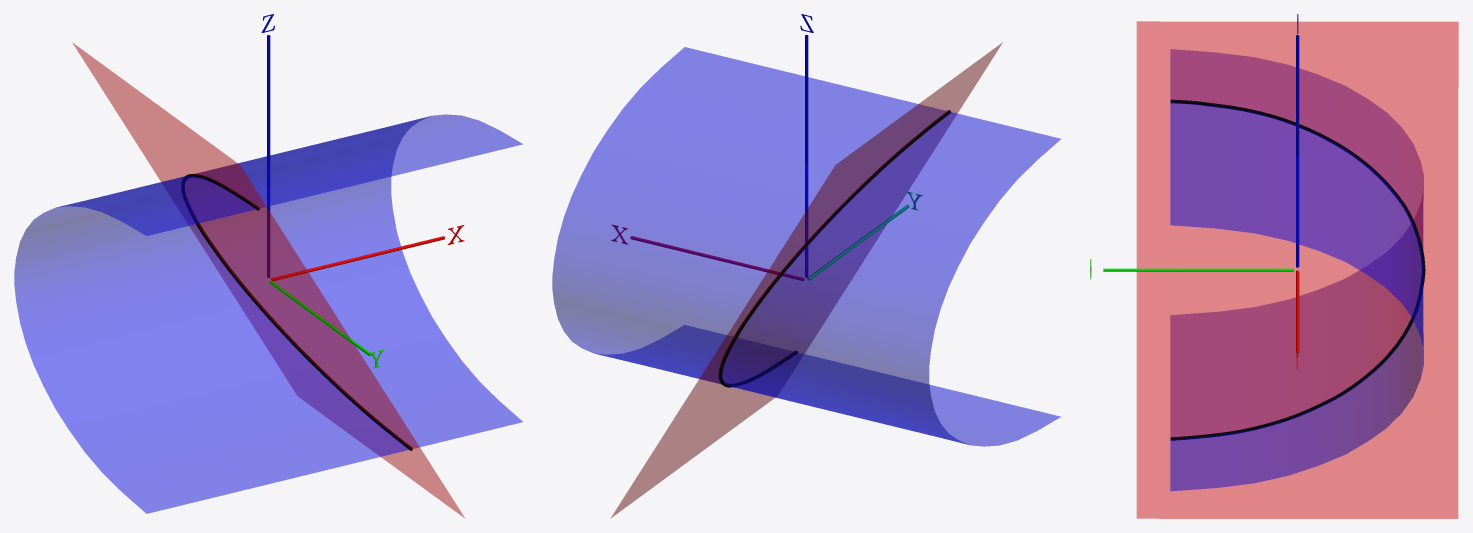
File: Parabola Plano 02 - 00.fbx
3 views of the same model, side by side, from view 1: azimuth 30°, elevation 25°; view 2: azimuth 150°, elevation 25°; view 3: azimuth 270°, elevation 25° (orthographic). The views are drawn at different scales.
Visible parts, largest first — view 1: parabola_01_, Plane_, inter, Eje_Z, Eje_X; view 2: parabola_01_, Plane_, inter, Eje_Z, Eje_X; view 3: Plane_, parabola_01_, inter, Eje_Z, Eje_Y.
Boxes of the visible parts, left/top/right/bottom form: parabola_01_: left=14, top=114, right=522, bottom=513; Plane_: left=73, top=43, right=464, bottom=517; inter: left=181, top=174, right=412, bottom=450; Eje_Z: left=267, top=35, right=270, bottom=277; Eje_X: left=271, top=236, right=444, bottom=280; parabola_01_: left=552, top=47, right=1060, bottom=446; Plane_: left=611, top=42, right=1002, bottom=517; inter: left=718, top=110, right=950, bottom=387; Eje_Z: left=805, top=35, right=808, bottom=277; Eje_X: left=630, top=236, right=803, bottom=280; Plane_: left=1136, top=21, right=1458, bottom=518; parabola_01_: left=1170, top=49, right=1423, bottom=491; inter: left=1170, top=99, right=1425, bottom=440; Eje_Z: left=1296, top=35, right=1299, bottom=267; Eje_Y: left=1103, top=268, right=1293, bottom=271.
Size of the model in its own units: 273 by 319 by 237.
